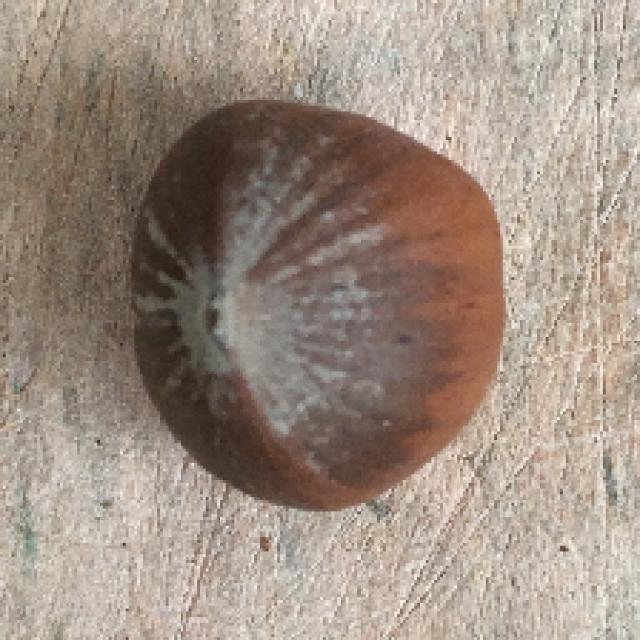damagedHazelnut: (120, 101, 511, 501)
